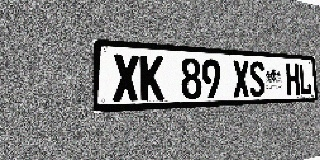8: (181, 57, 202, 99)
9: (202, 59, 221, 99)
H: (286, 63, 300, 96)
K: (140, 55, 164, 101)
L: (299, 64, 312, 95)
S: (249, 61, 265, 97)
X: (113, 54, 139, 102), (232, 60, 250, 97)
